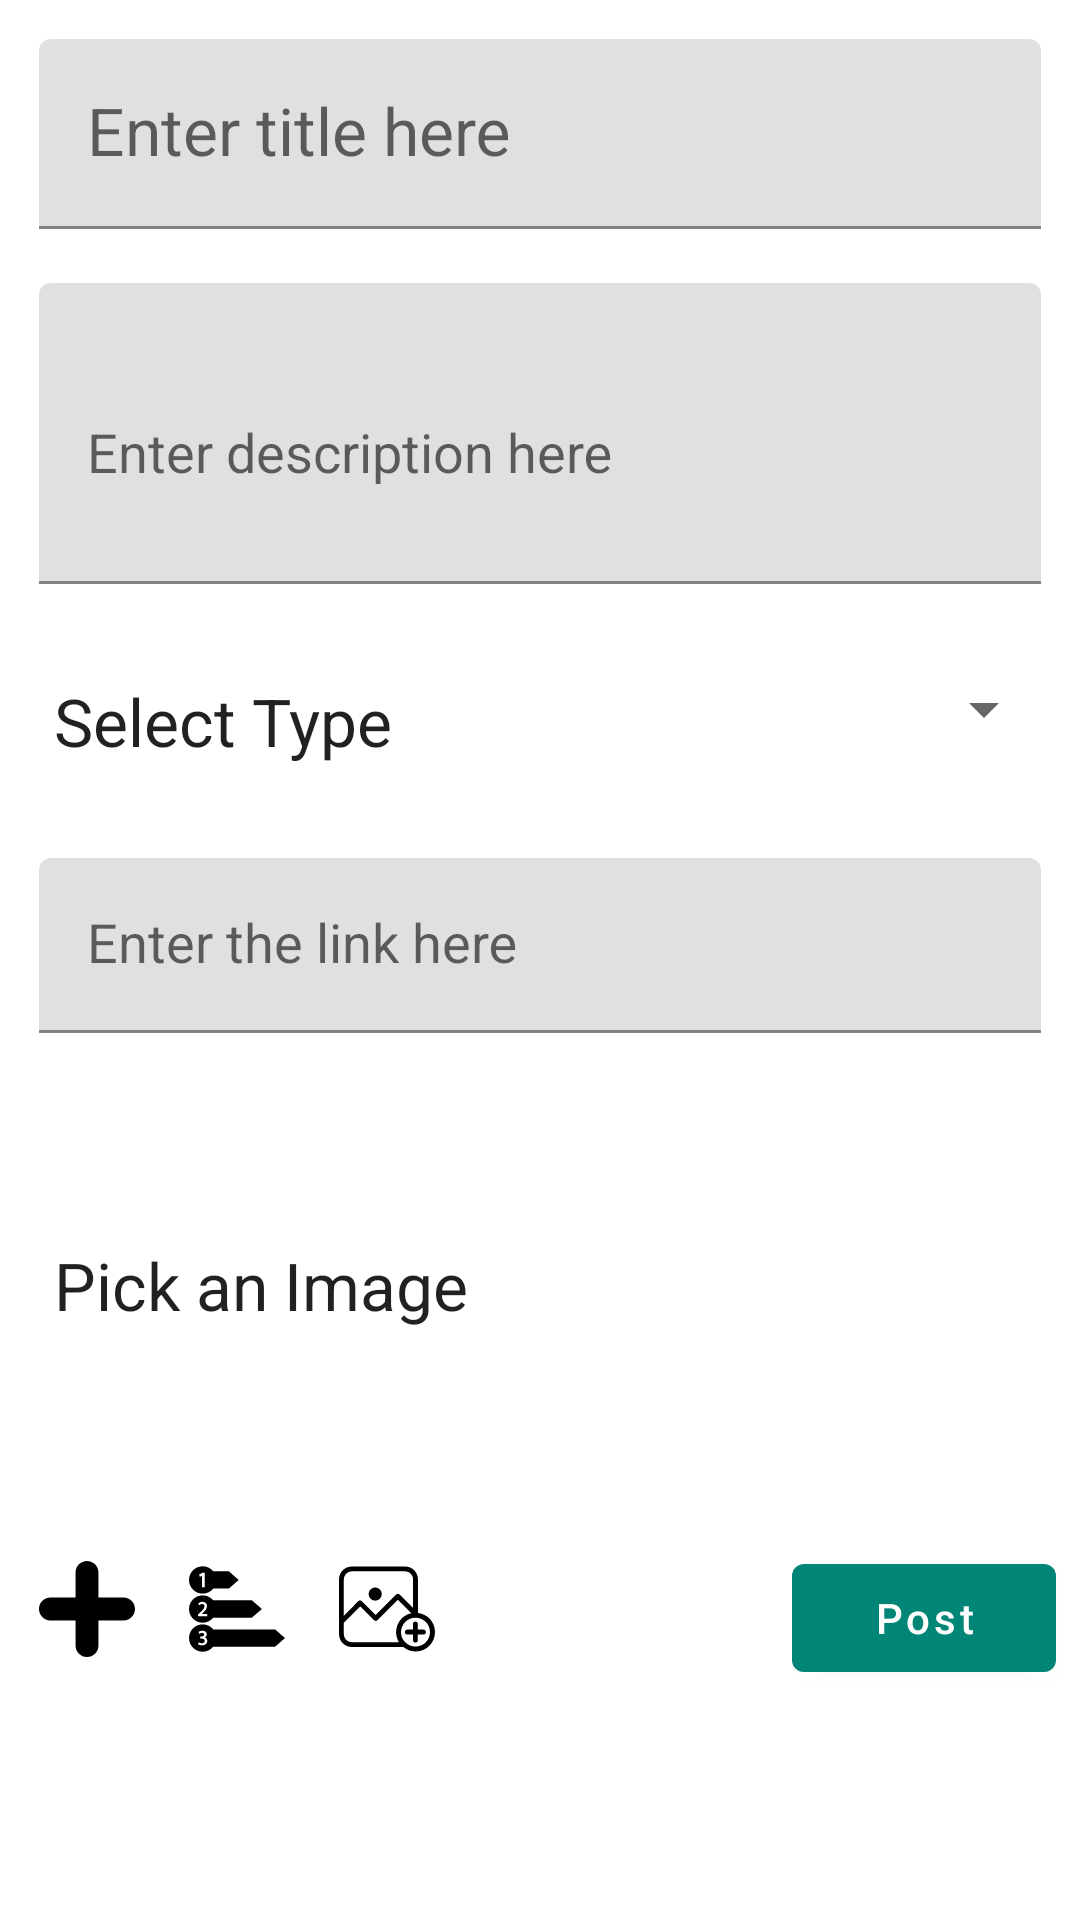

Icon bounding boxes for this 1080 x 1920 phone screenshot, format (x1, y1, x2, y2):
add: (39, 1561, 135, 1657), (339, 1566, 435, 1652)
numbered information: (189, 1566, 285, 1652)
